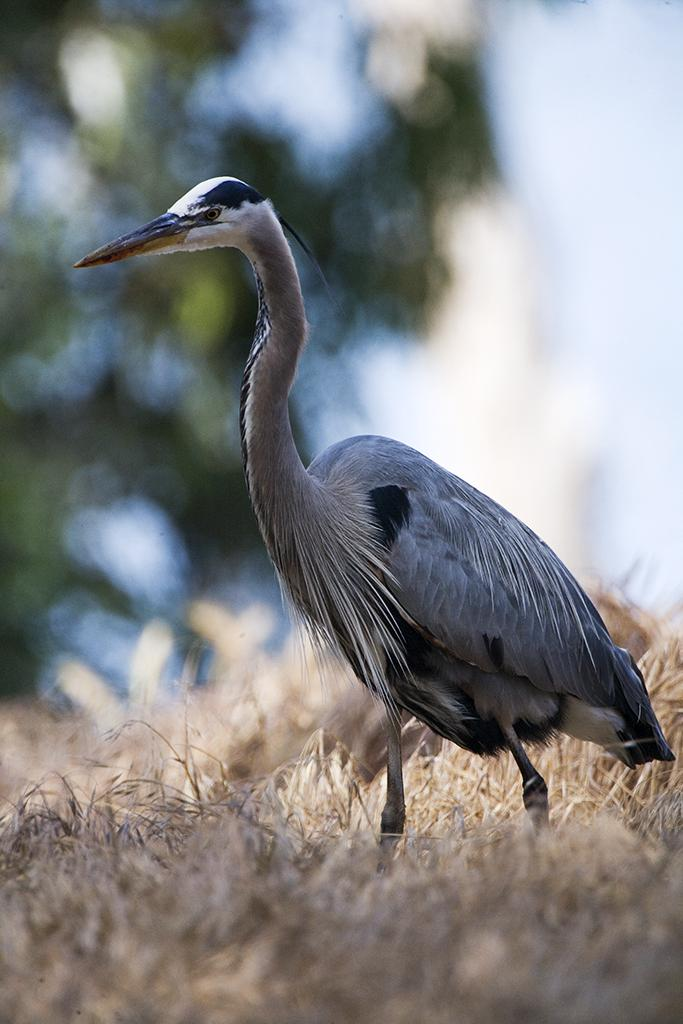Bird: (71, 174, 677, 874)
